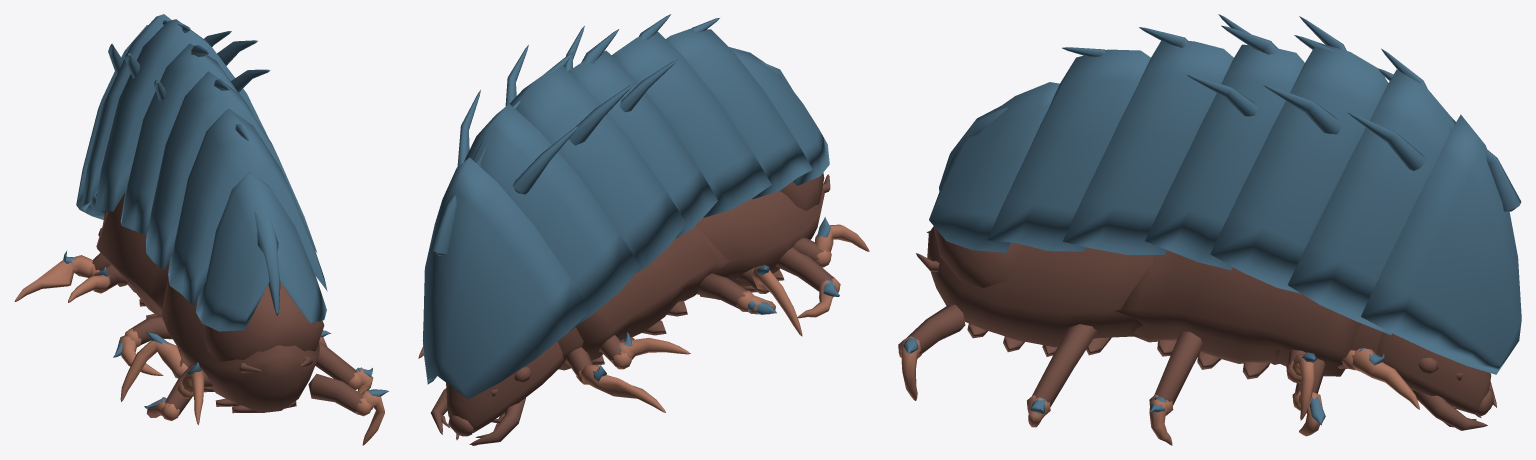
File: big-spitter-corpse.glb
3 renders of one model, left to right at view 1: azimuth 30°, elevation 25°; view 2: azimuth 150°, elevation 25°; view 3: azimuth 270°, elevation 25°, orthographic. The views are drawn at different scales.
Visible parts, largest first — view 1: body; view 2: body; view 3: body.
Part boxes in pixels (x1=…): body: x1=14, y1=14, x2=388, y2=445; body: x1=418, y1=14, x2=869, y2=445; body: x1=898, y1=14, x2=1521, y2=445.
Bounding box in the file's own units: 1.87 × 2.26 × 3.39.
